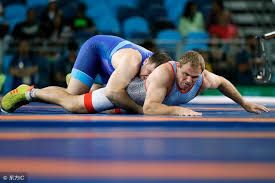10+: (1, 1, 274, 120)
down: (1, 46, 272, 122), (51, 31, 178, 116)
